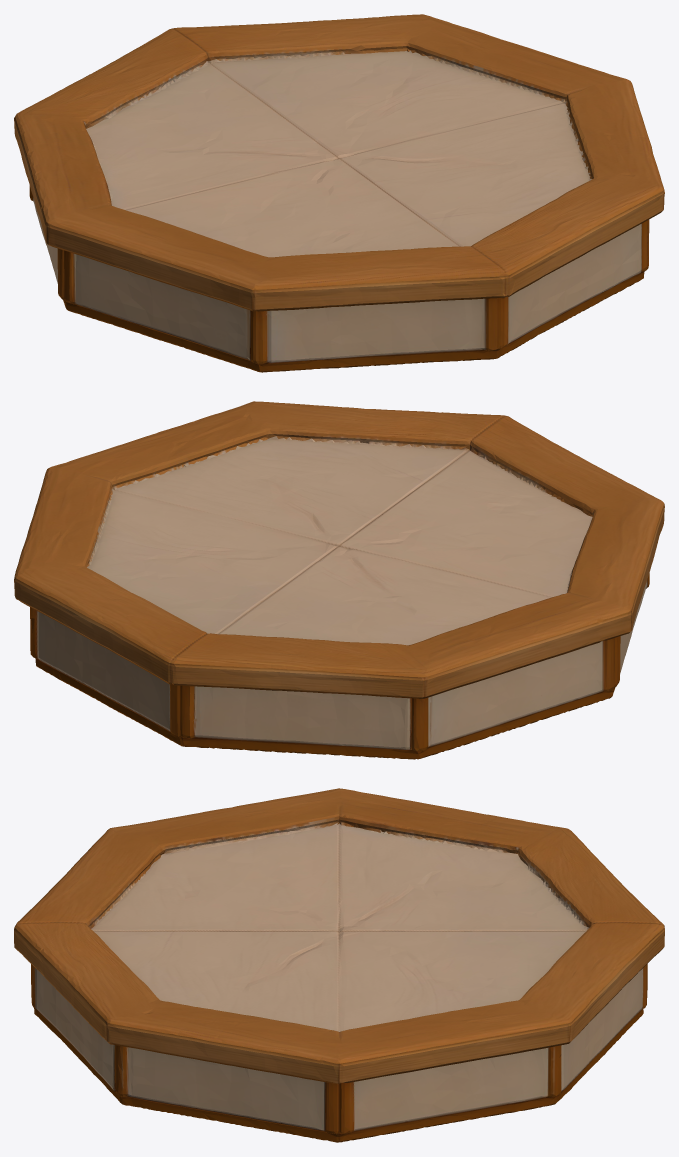
Rendered from room-03-picnic-deck.glb.
3 views of the same model, one above another, from view 1: azimuth 30°, elevation 25°; view 2: azimuth 150°, elevation 25°; view 3: azimuth 270°, elevation 25° (orthographic). The views are drawn at different scales.
Parts seen in each view (by area): view 1: textured_mesh.obj; view 2: textured_mesh.obj; view 3: textured_mesh.obj.
Part boxes in pixels (<box>): textured_mesh.obj: <box>14,14,664,372</box>; textured_mesh.obj: <box>14,401,664,759</box>; textured_mesh.obj: <box>14,788,664,1142</box>.
Bounding box in the file's own units: 2.85 × 0.45 × 2.84.
Materials: 1 (1 with a texture image).
